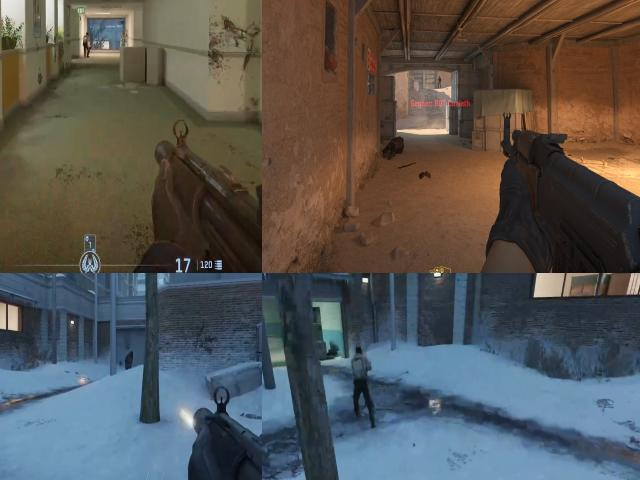CT: (438, 76, 441, 88)
CT-Head: (439, 76, 440, 77)
Dead: (382, 136, 406, 162)
T: (348, 342, 372, 384), (82, 32, 91, 50)
T-Head: (352, 342, 366, 360), (85, 32, 91, 38)
